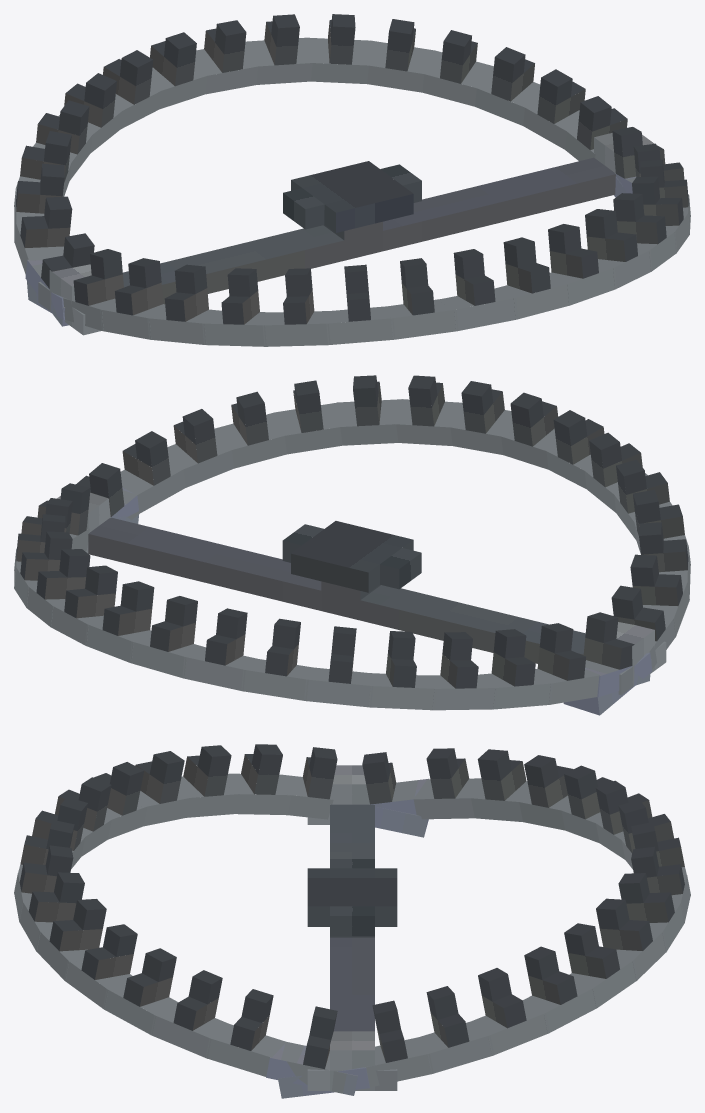
Rendered from trap-24.glb.
3 views of the same model, one above another, from view 1: azimuth 30°, elevation 25°; view 2: azimuth 150°, elevation 25°; view 3: azimuth 270°, elevation 25° (orthographic).
Parts seen in each view (by area): view 1: 10$$(1)-Local; view 2: 10$$(1)-Local; view 3: 10$$(1)-Local.
Part boxes in pixels (left/top/right/bottom): 10$$(1)-Local: left=14, top=14, right=690, bottom=346; 10$$(1)-Local: left=14, top=375, right=690, bottom=715; 10$$(1)-Local: left=14, top=744, right=690, bottom=1098.
Bounding box in the file's own units: 1 × 0.1953 × 1.
3 materials, 3 textured.
